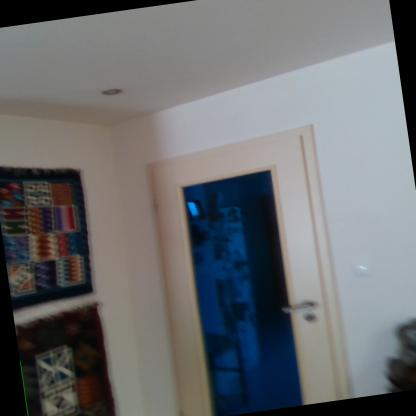closed: (142, 126, 381, 415)
